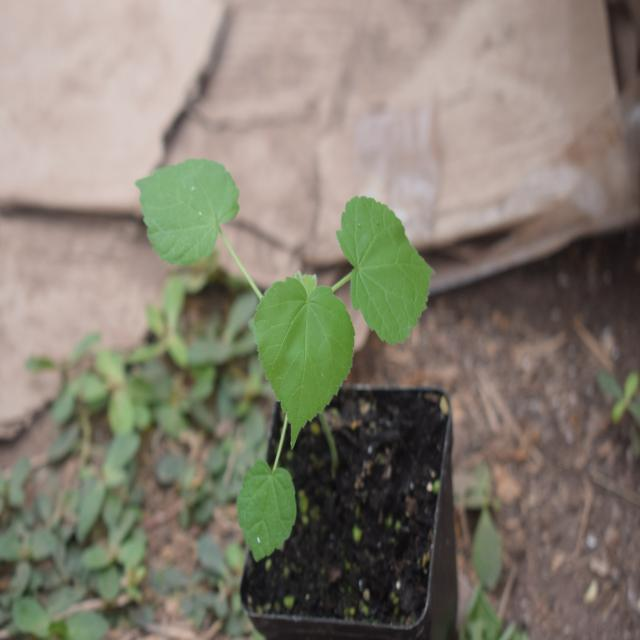abutilon theophrasti: (124, 136, 418, 568)
